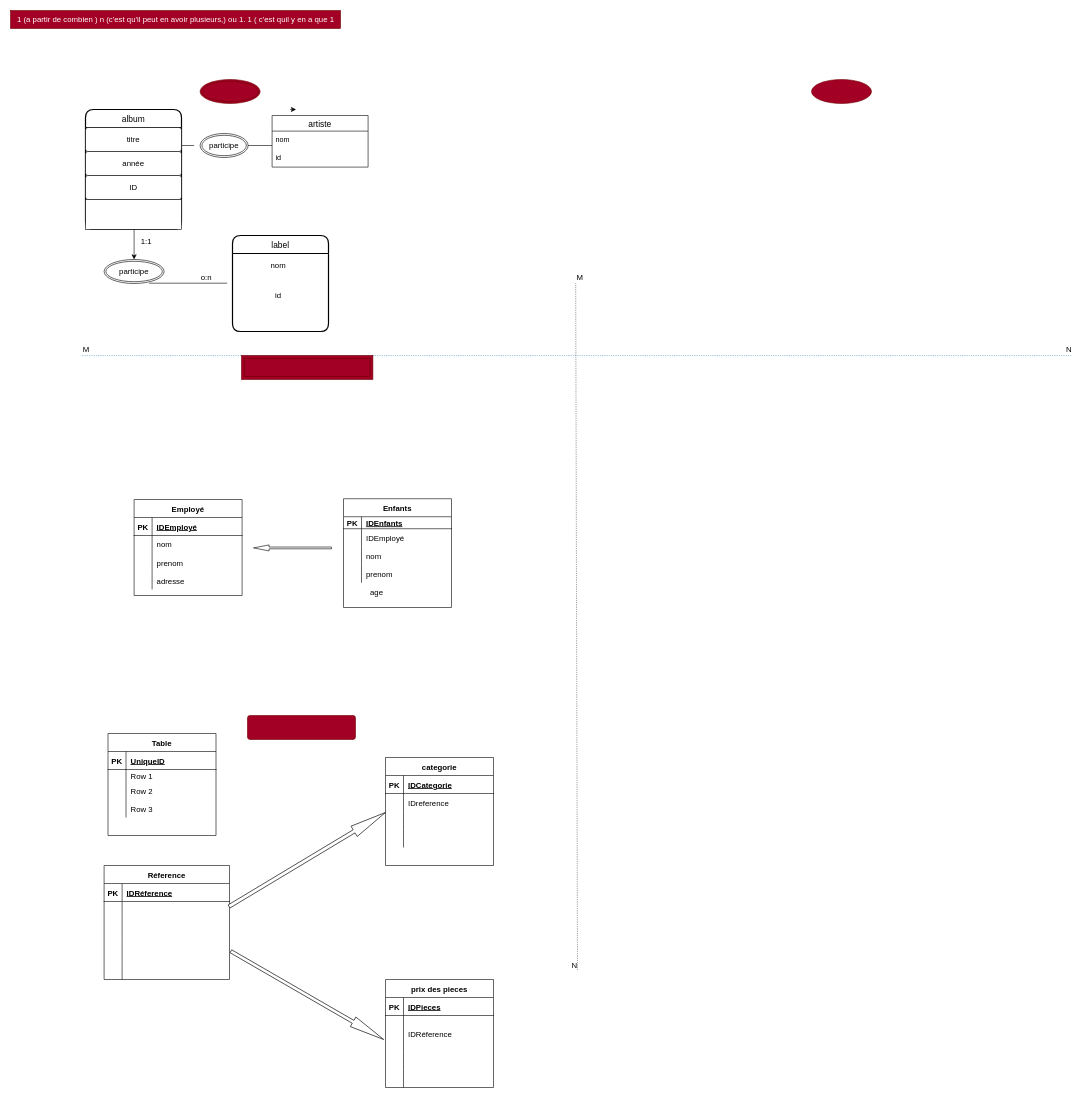
The diagram is 1083 pixels wide and 1098 high, and some of its shapes have lost their labels. The shapes that lost their labels are listed below. From the top down, each one's centre as x and y in pixels, then its label:
At pixel 230 91: "exo 1 mcd".
At pixel 841 91: "exo1 mld1".
At pixel 307 367: "Exercice 2".
At pixel 301 727: "exercice 3".
